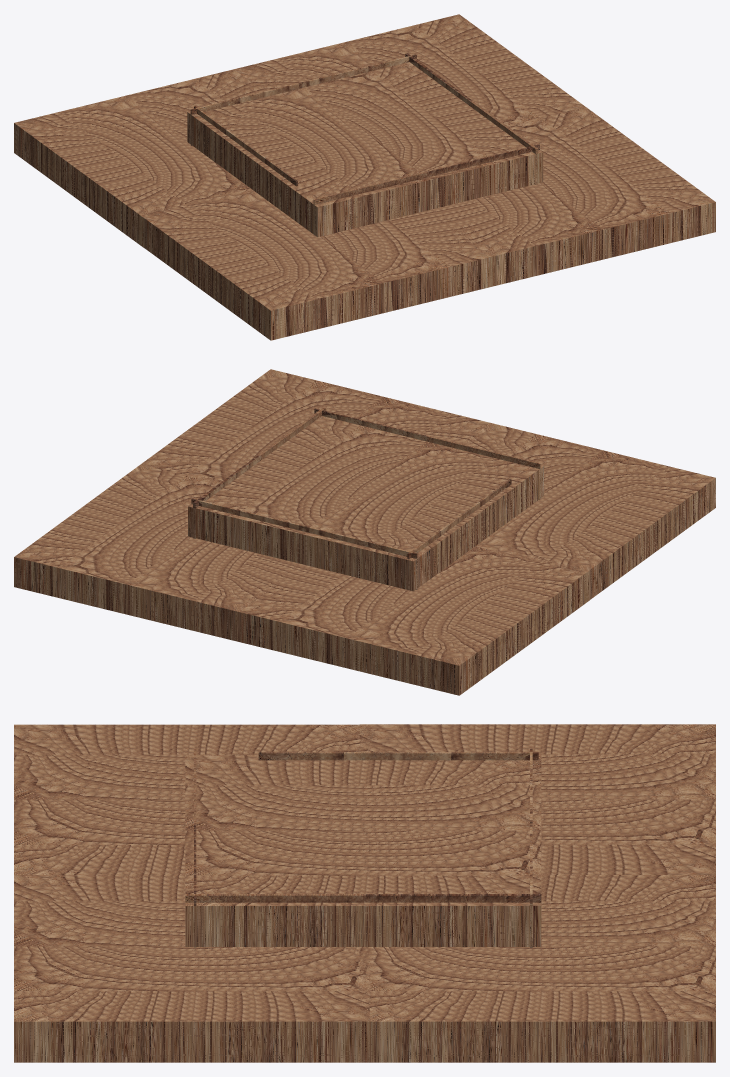
The model's file is evilFactoryBase.glb.
3 views of the same model, one above another, from view 1: azimuth 30°, elevation 25°; view 2: azimuth 150°, elevation 25°; view 3: azimuth 270°, elevation 25° (orthographic). The views are drawn at different scales.
Visible parts, largest first — view 1: factoryCityGround, factoryCityGround.005, factoryCityGround.006, factoryCityGround.008, factoryCityGround.007, factoryCityGround.003, factoryCityGround.001, factoryCityGround.002, factoryCityGround.004; view 2: factoryCityGround, factoryCityGround.008, factoryCityGround.007, factoryCityGround.005, factoryCityGround.006, factoryCityGround.003, factoryCityGround.001, factoryCityGround.002, factoryCityGround.004; view 3: factoryCityGround, factoryCityGround.006, factoryCityGround.007, factoryCityGround.008, factoryCityGround.005, factoryCityGround.002, factoryCityGround.004.
Boxes of the visible parts, x1,y1,x2,y2 form: factoryCityGround: (187,62,543,237); factoryCityGround.005: (141,188,496,340); factoryCityGround.006: (429,107,715,286); factoryCityGround.008: (14,69,269,247); factoryCityGround.007: (234,14,588,127); factoryCityGround.003: (313,144,539,235); factoryCityGround.001: (190,54,416,145); factoryCityGround.002: (405,53,537,184); factoryCityGround.004: (194,106,297,186); factoryCityGround: (188,416,543,591); factoryCityGround.008: (234,546,589,695); factoryCityGround.007: (14,462,302,641); factoryCityGround.005: (462,423,715,599); factoryCityGround.006: (141,369,489,482); factoryCityGround.003: (314,408,540,499); factoryCityGround.001: (191,498,417,589); factoryCityGround.002: (193,407,325,538); factoryCityGround.004: (407,479,511,559); factoryCityGround: (185,755,541,946); factoryCityGround.006: (14,875,370,1062); factoryCityGround.007: (359,875,715,1062); factoryCityGround.008: (359,724,715,874); factoryCityGround.005: (14,724,370,874); factoryCityGround.002: (185,894,541,902); factoryCityGround.004: (258,752,538,760).
Size of the model in its own units: 3949 by 558 by 3941.
1 material, 1 textured.
